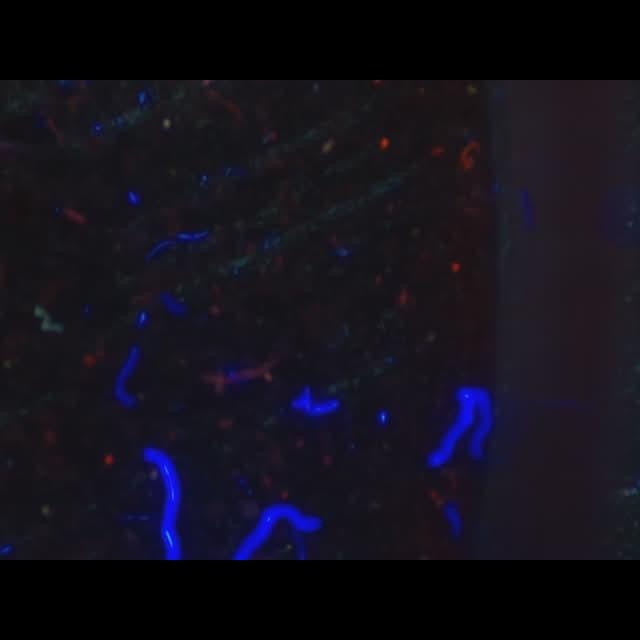Fibre: (34, 306, 62, 334)
